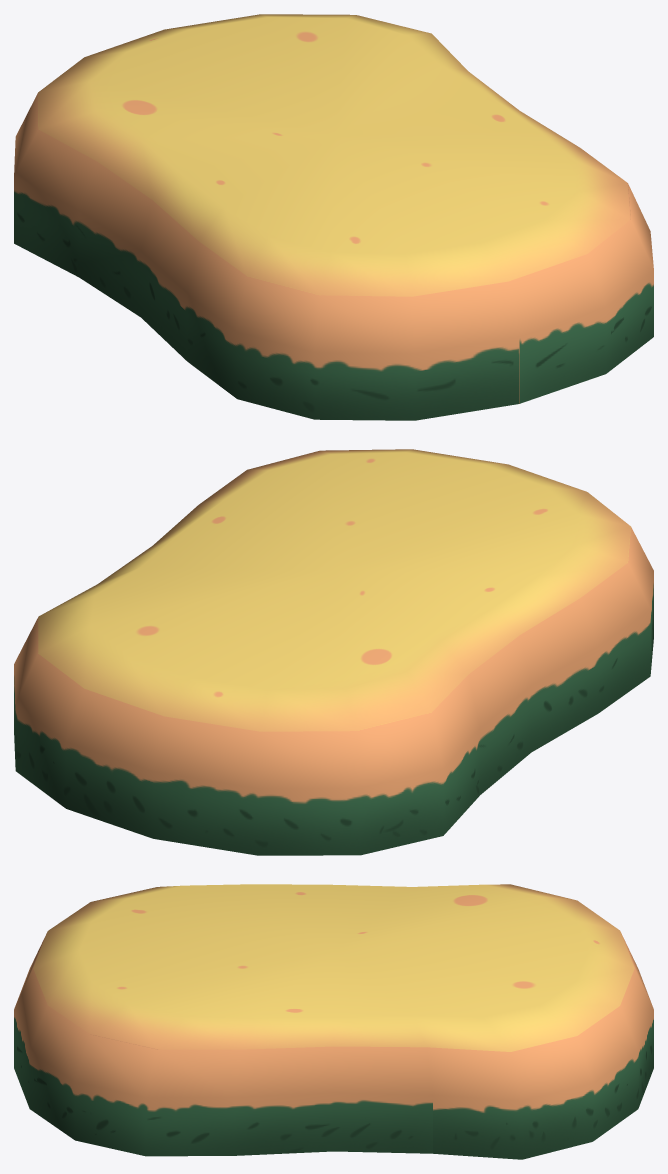
Rendered from spongereal.fbx.
3 views of the same model, one above another, from view 1: azimuth 30°, elevation 25°; view 2: azimuth 150°, elevation 25°; view 3: azimuth 270°, elevation 25° (orthographic). The views are drawn at different scales.
Parts seen in each view (by area): view 1: pCylinder1; view 2: pCylinder1; view 3: pCylinder1.
Part boxes in pixels (x1,y1,x2,y2): pCylinder1: (14,14,653,420); pCylinder1: (14,449,653,855); pCylinder1: (14,884,653,1159).
Size of the model in its own units: 16.79 by 5.01 by 24.8.
1 material, 1 textured.
